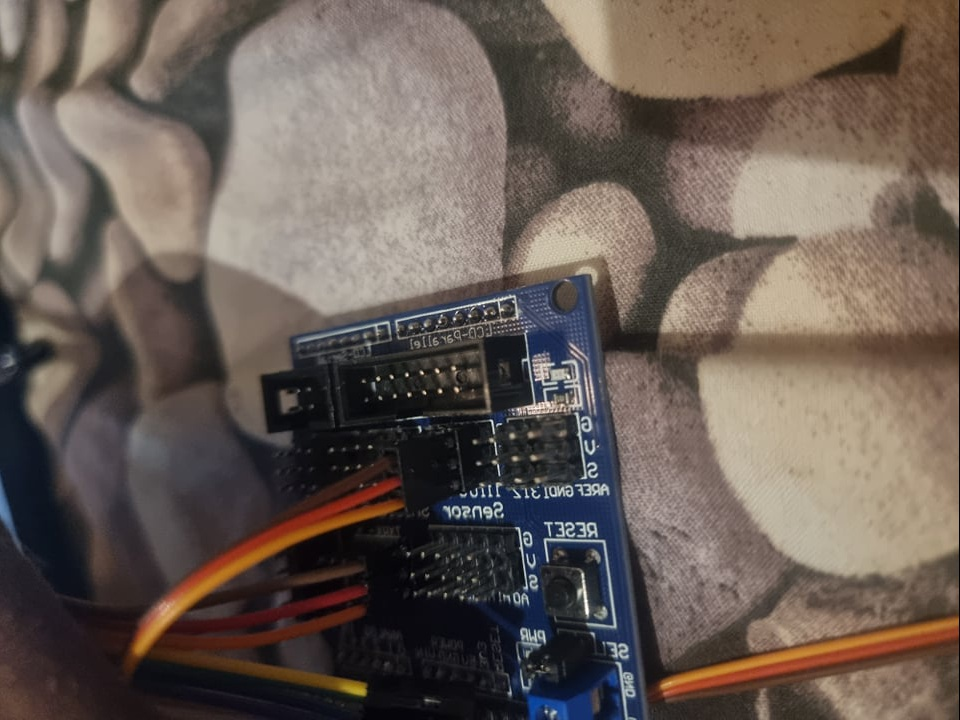5V EXPANSION: (259, 271, 645, 720)
